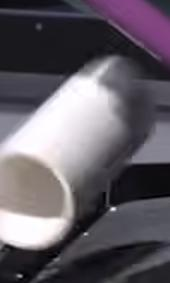coral: (0, 54, 155, 251)
